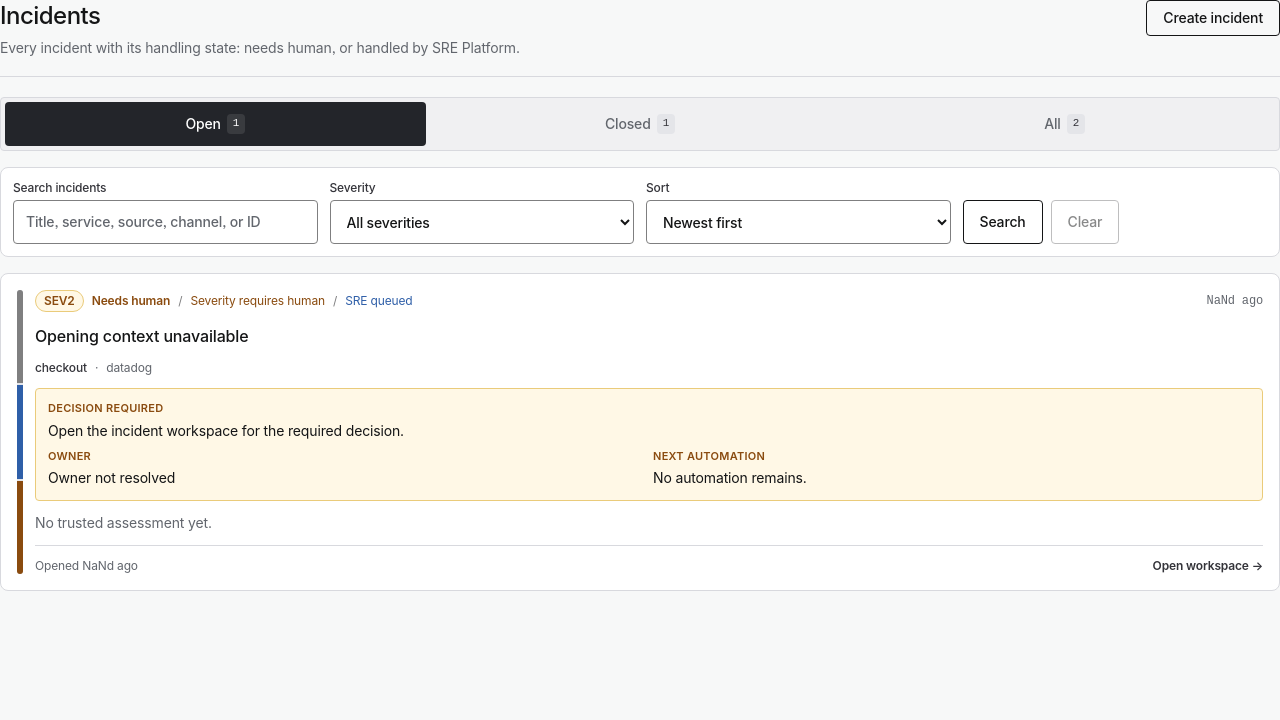
Scenario: IncidentsPanel status tabs › All hides archived records even if a stale client response contains one
Click the tab "Closed 1".
click(640, 124)  # box [430, 102, 850, 146]
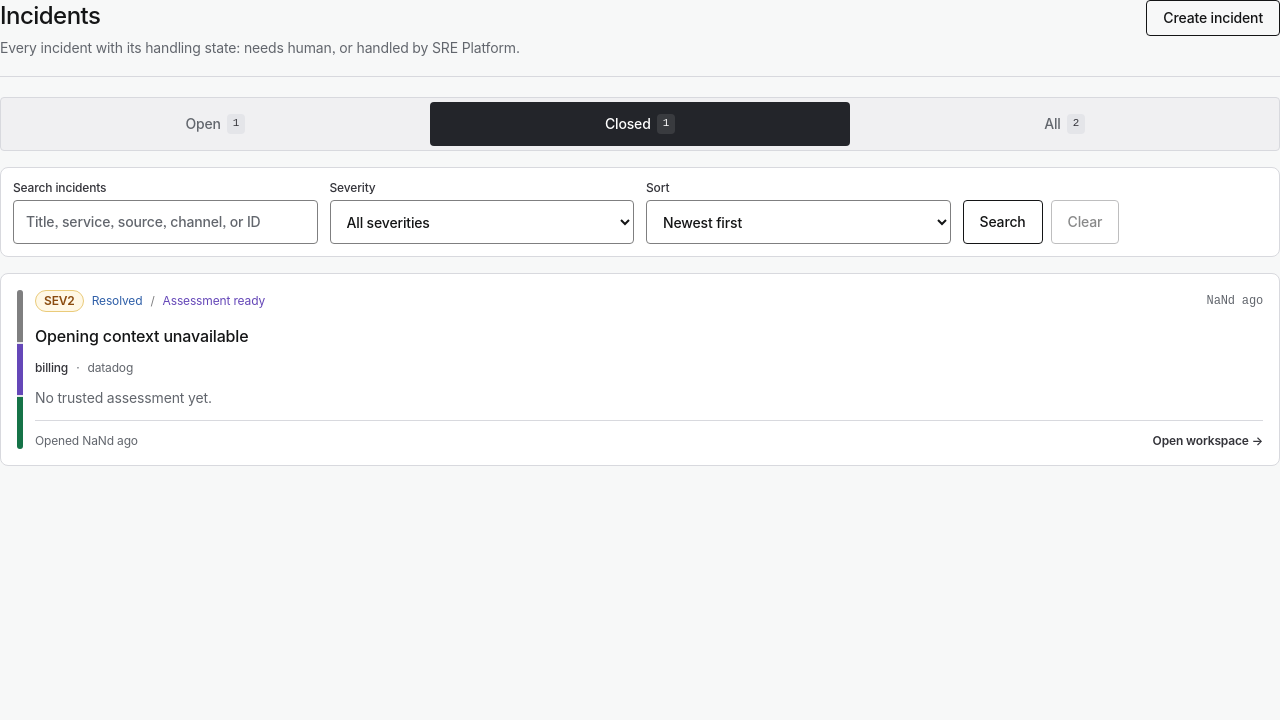
Check: the text "billing" is shown, box [35, 360, 68, 376]
Click the tab "All 2".
click(1065, 124)  # box [854, 102, 1275, 146]
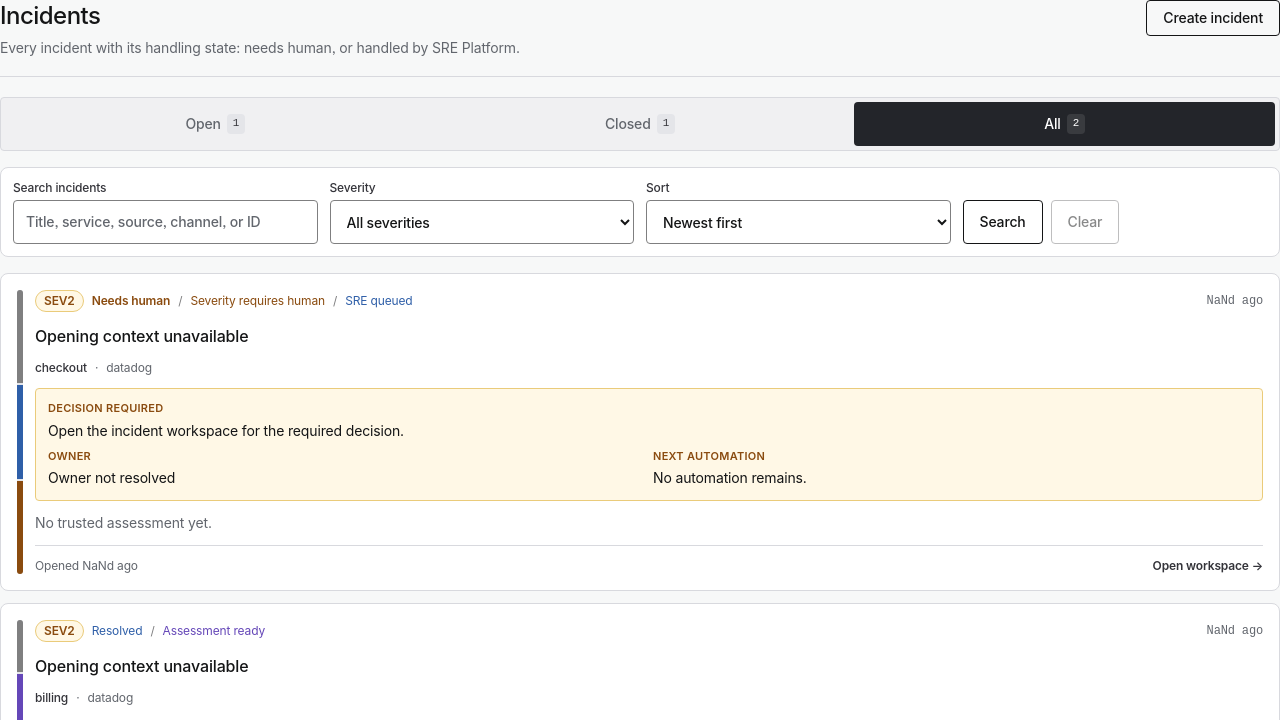
Check: the text "billing" is shown, box [35, 690, 68, 706]
Check: the text "checkout" is shown, box [35, 360, 87, 376]
